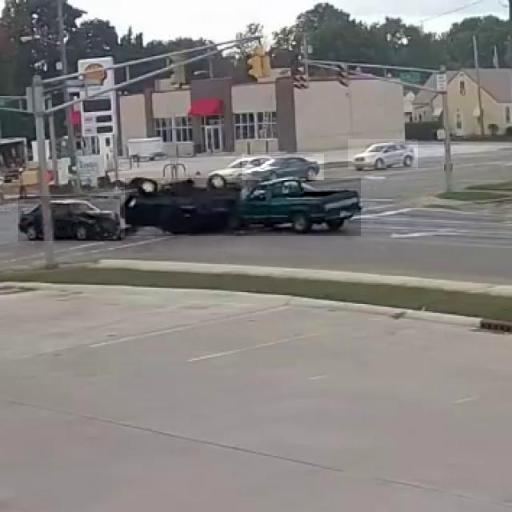小汽车: (18, 196, 121, 241), (242, 154, 324, 180), (348, 139, 418, 169)
小汽车撞小汽车: (125, 178, 361, 236)
